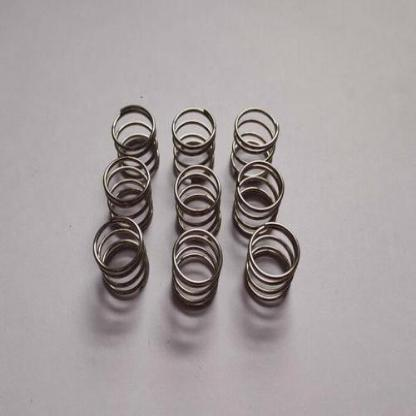FOD: (91, 212, 151, 304), (242, 221, 303, 310), (168, 226, 226, 314), (99, 152, 156, 234), (226, 102, 282, 182), (230, 159, 288, 236), (110, 100, 164, 179), (172, 160, 225, 237), (169, 102, 218, 179)
